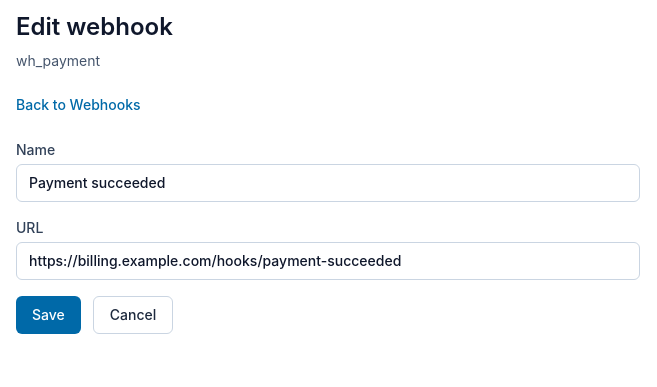
Scenario: WebhookEditPage › shows a save error
Click the button "Save" at (48, 315), box 16,296 -> 81,334
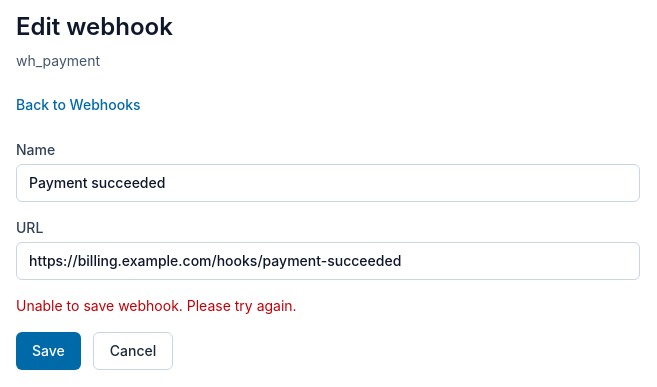
Check: the text "Unable to save webhook. Please try again." is shown, box 16,297 -> 297,314
